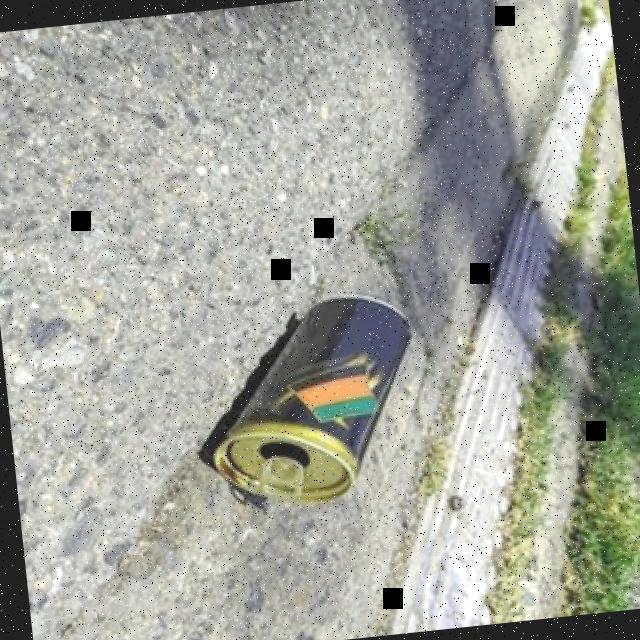can: (192, 286, 433, 518)
